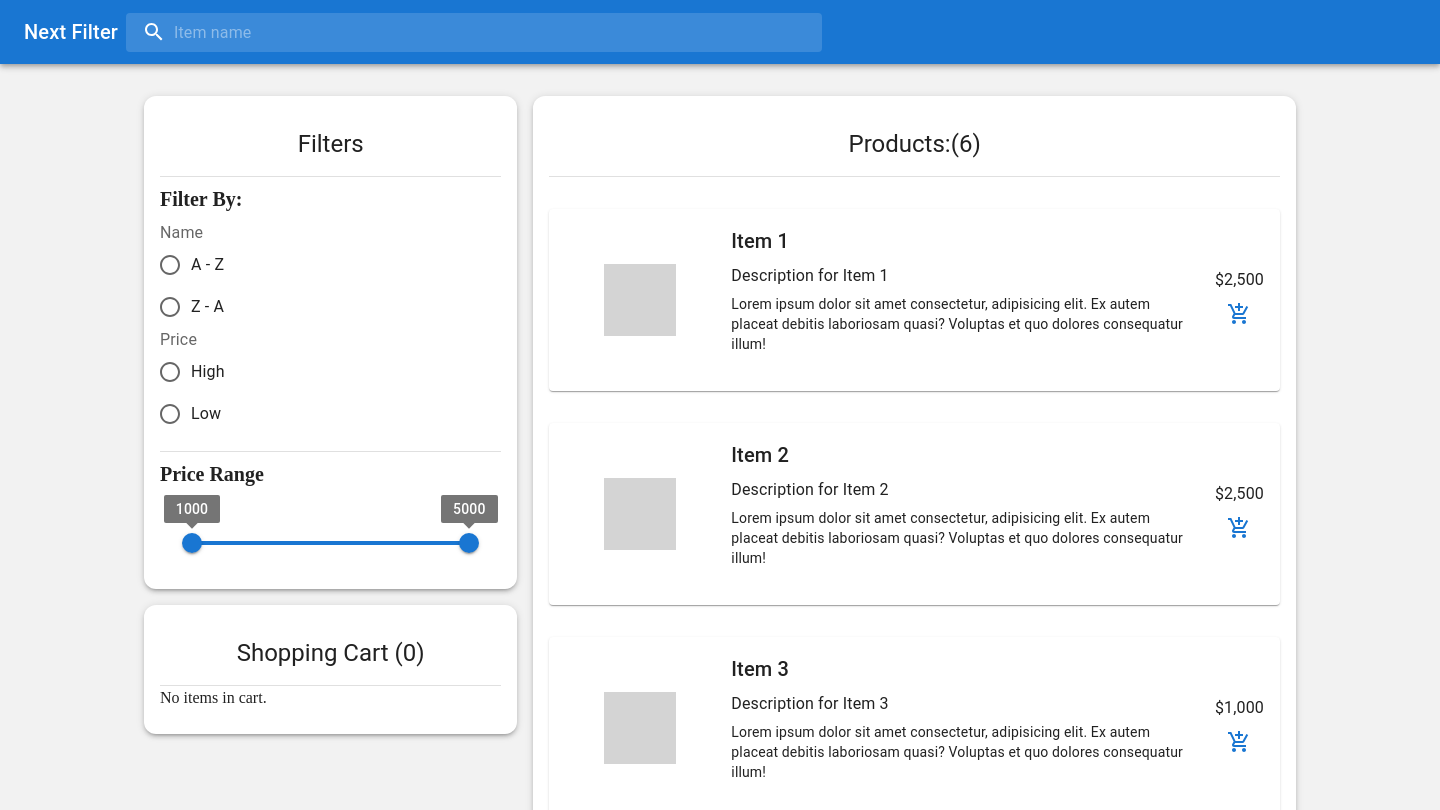
Test: Search Functionality › should display no items when searching for a non-existent product
The image size is (1440, 810).
In the field with placeholder "Item name": point(474, 32) [126,12,822,52], type "Foo"
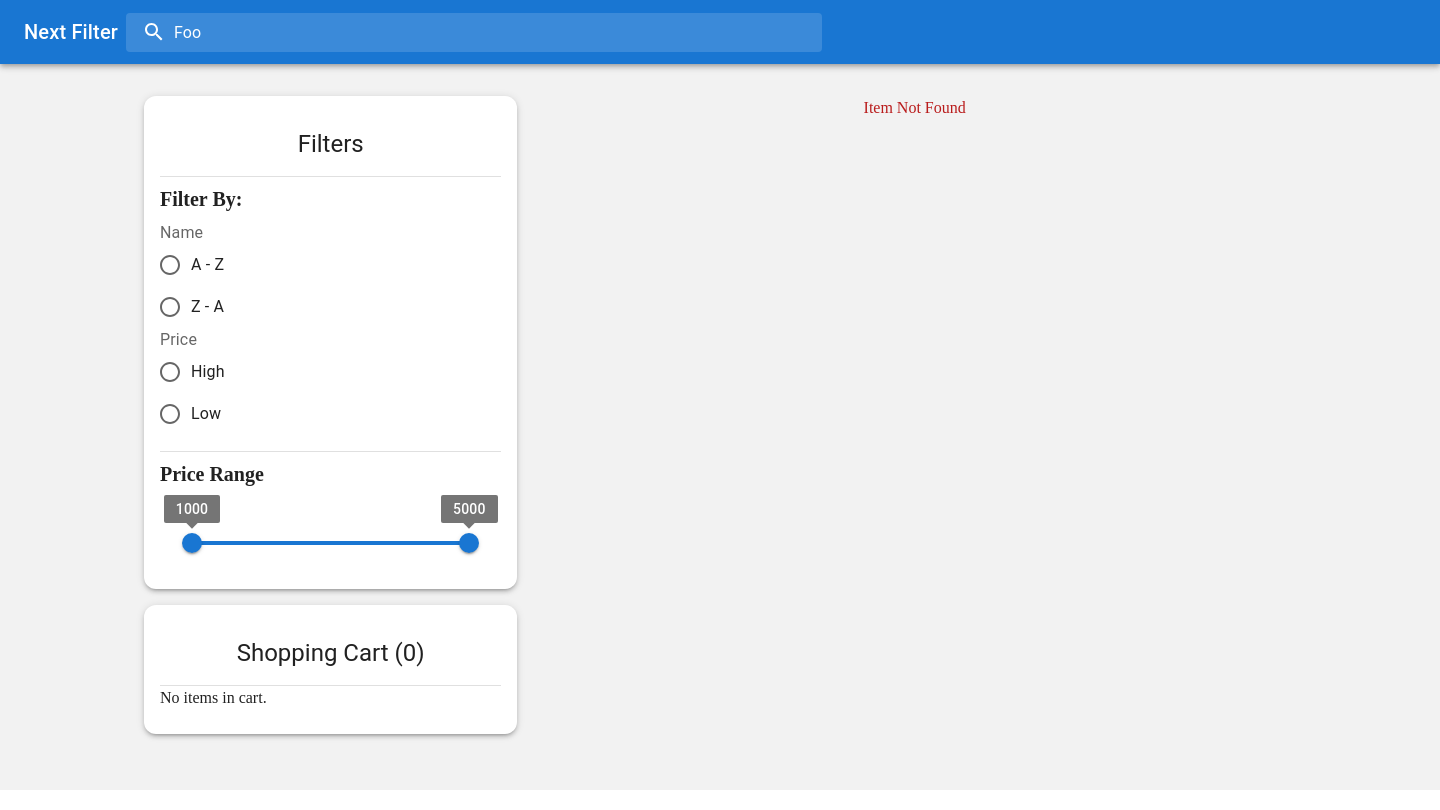
Check: the heading "Item Not Found" is shown, box [864,96,966,120]
